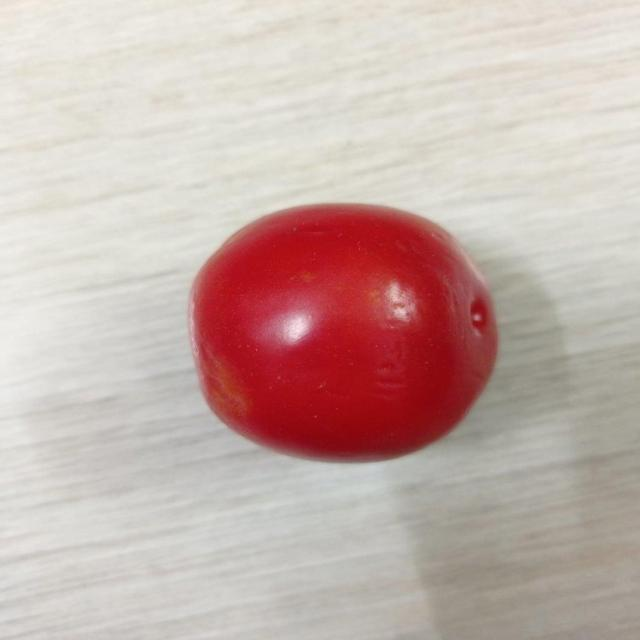Tomato: (187, 196, 507, 467)
